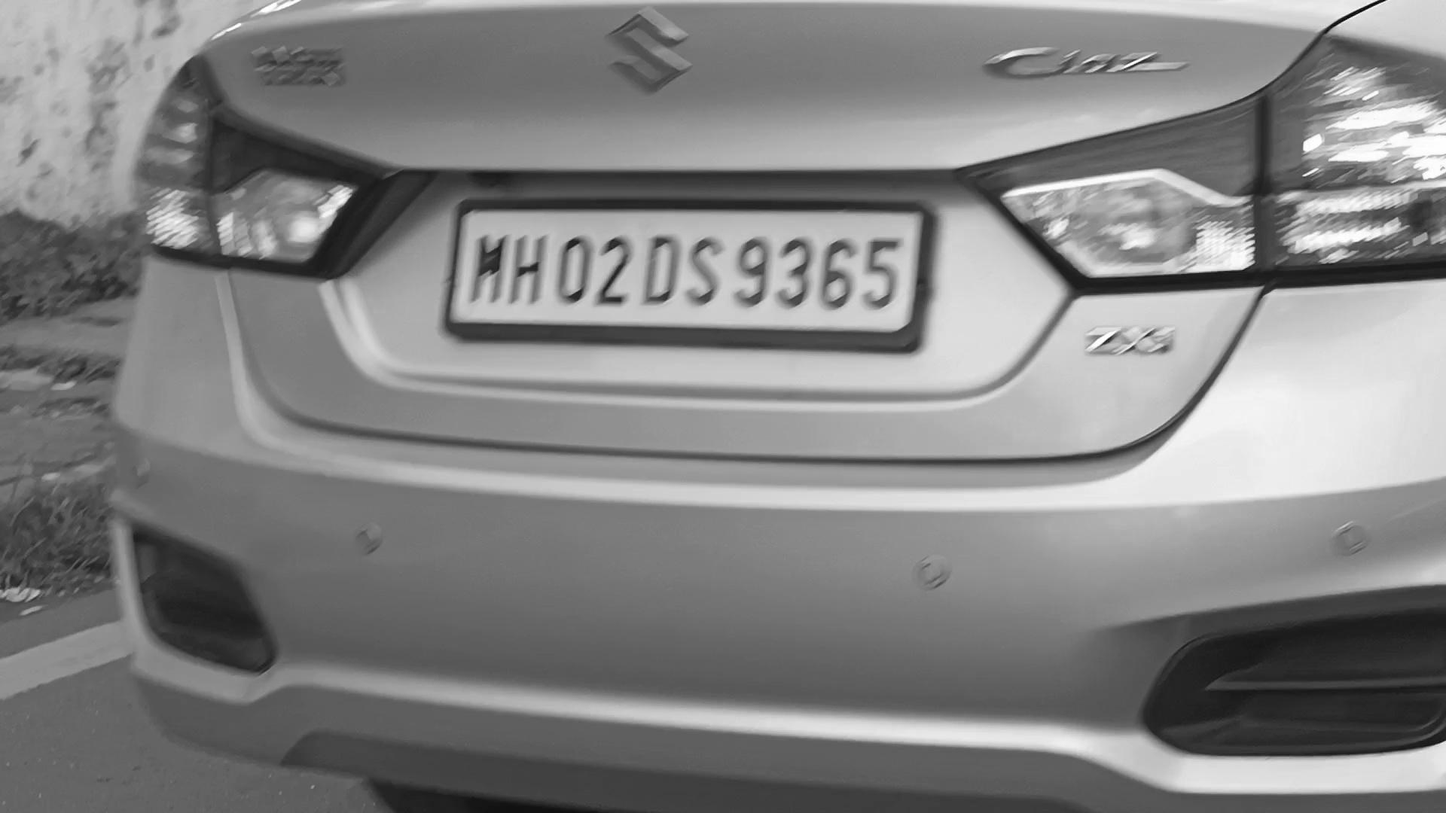number_plate: (460, 210, 917, 348)
